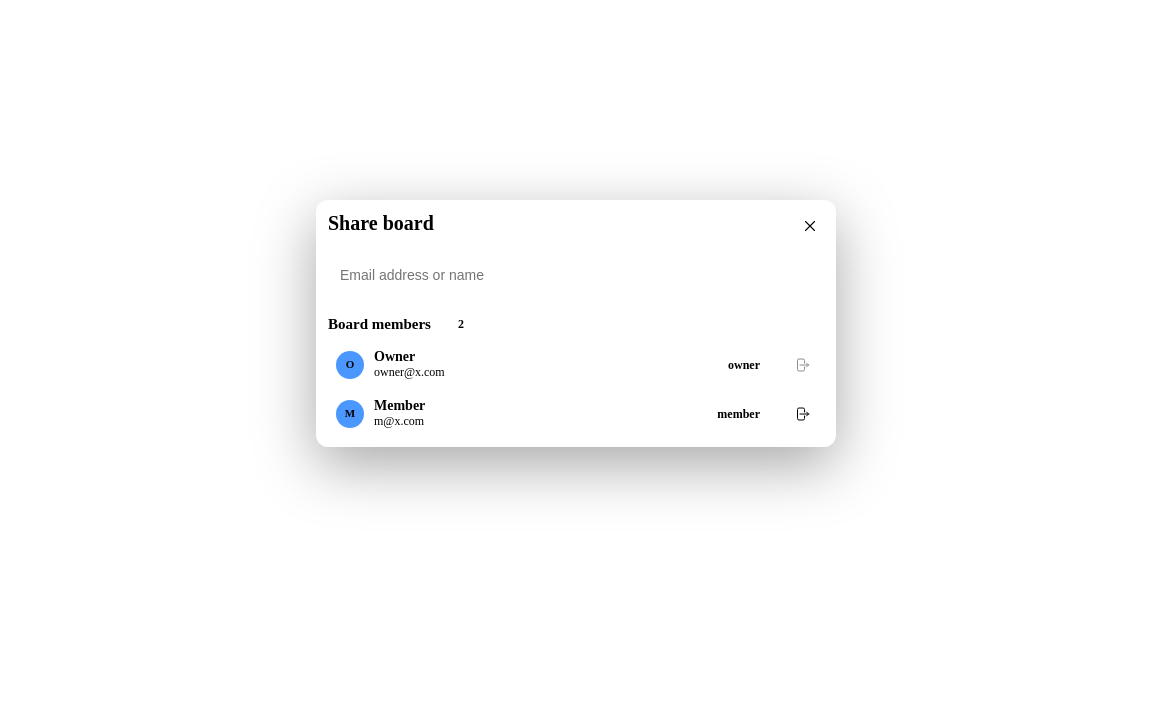
Test: ShareModal › kick flow: handles delete 403 owner-only and default error
Expected: the text "Member" is shown, [374, 398, 425, 414]
Click the button named "Remove m@x.com" at (802, 414), box [788, 400, 816, 428]
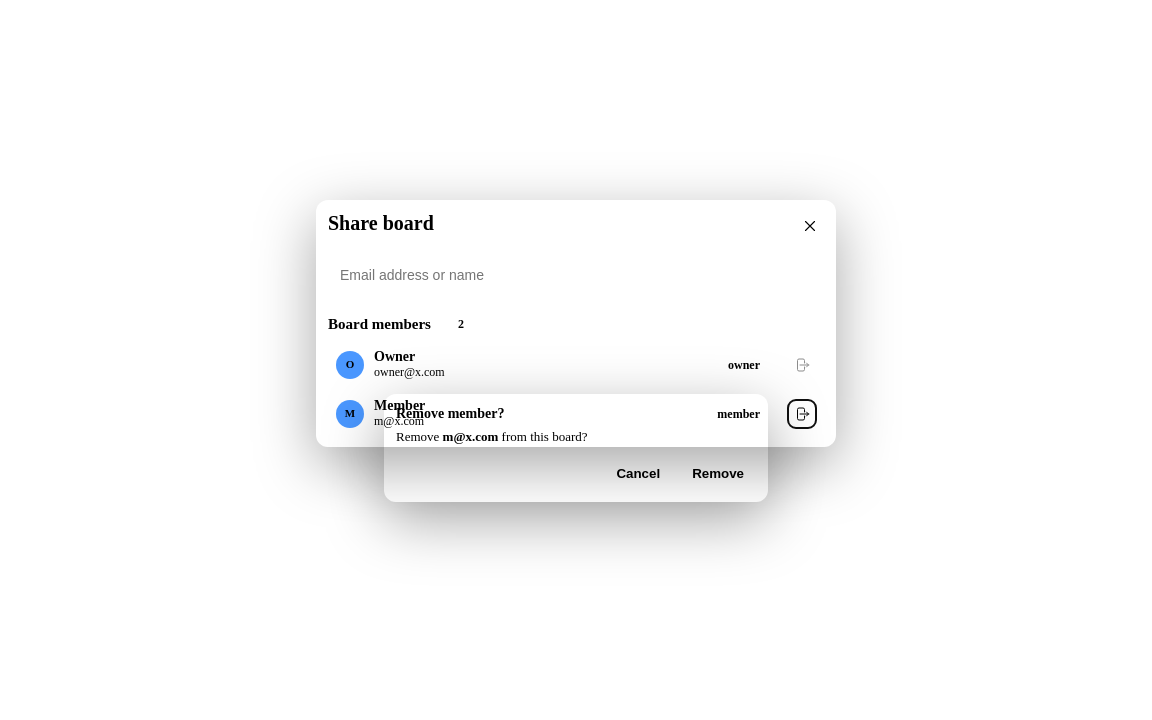
Click the button "Remove" at (718, 474), box [680, 458, 756, 490]
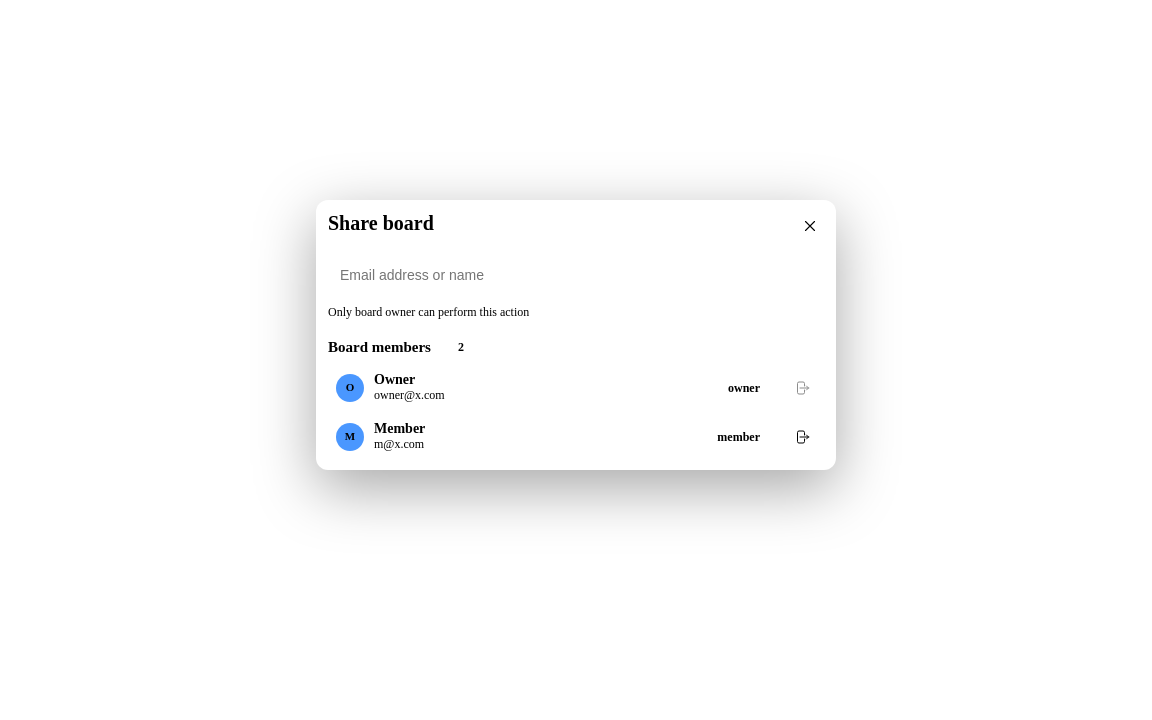
Expected: the text "Only board owner can perform this action" is shown, [328, 305, 529, 319]
Click the button named "Remove m@x.com" at (802, 436), box [788, 422, 816, 450]
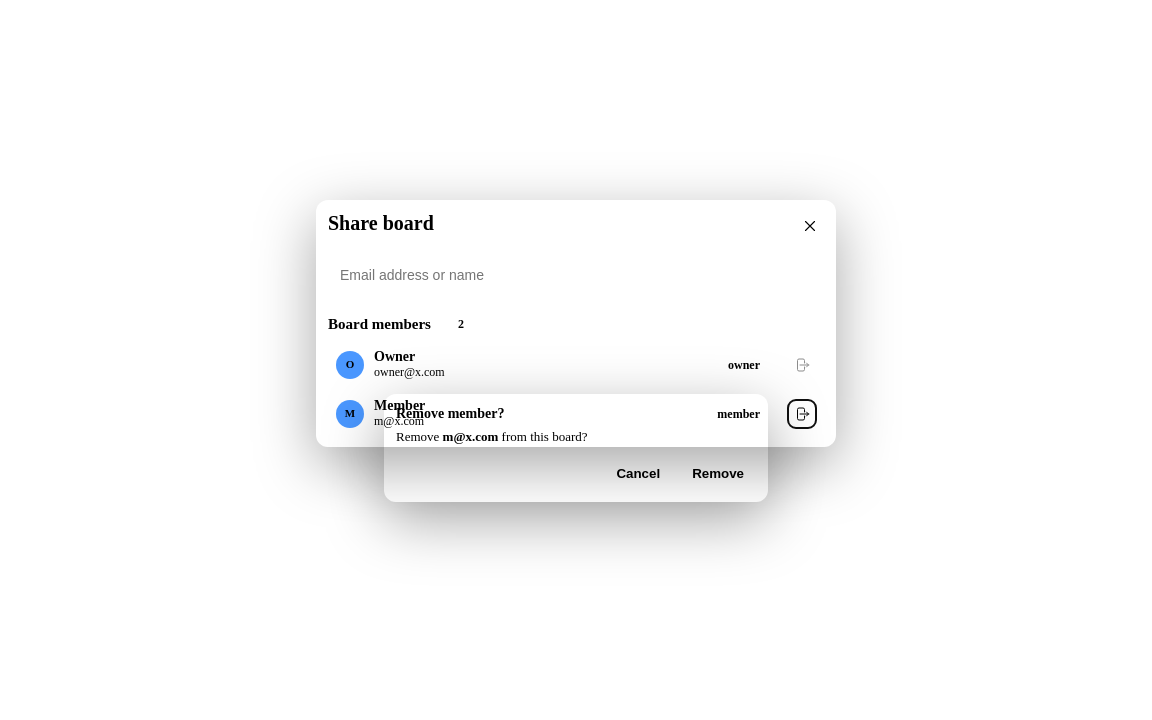
Click the button "Remove" at (718, 474), box [680, 458, 756, 490]
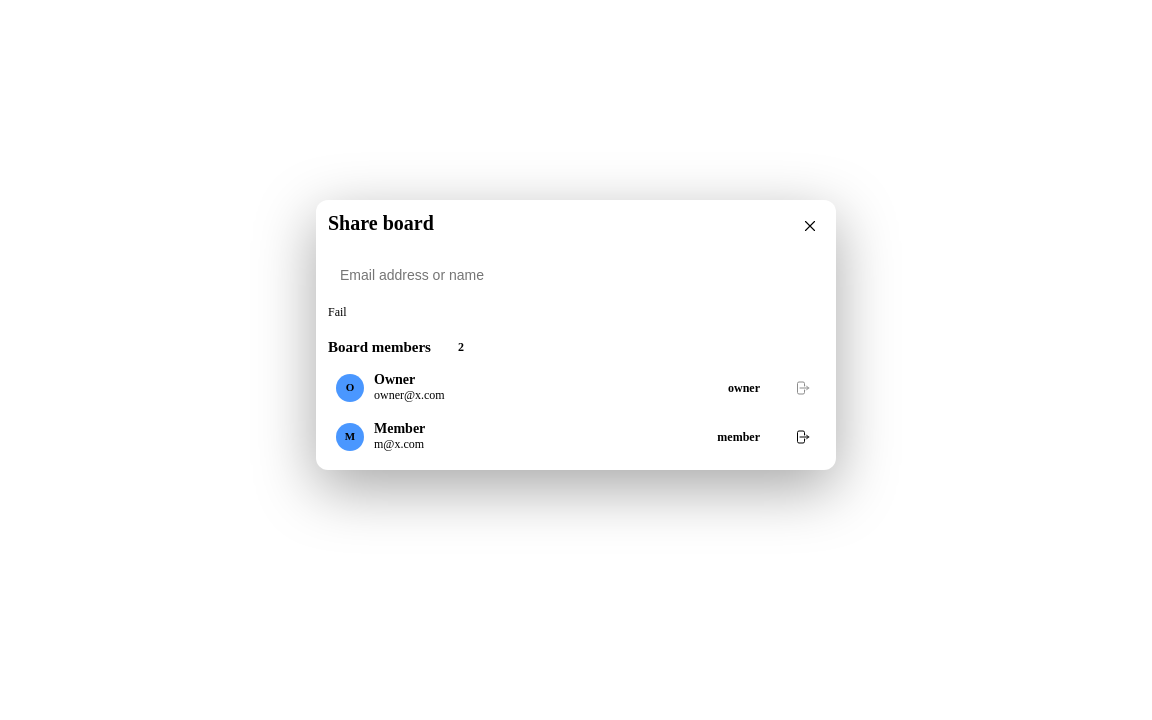
Expected: the text "Fail" is shown, [328, 305, 347, 319]
